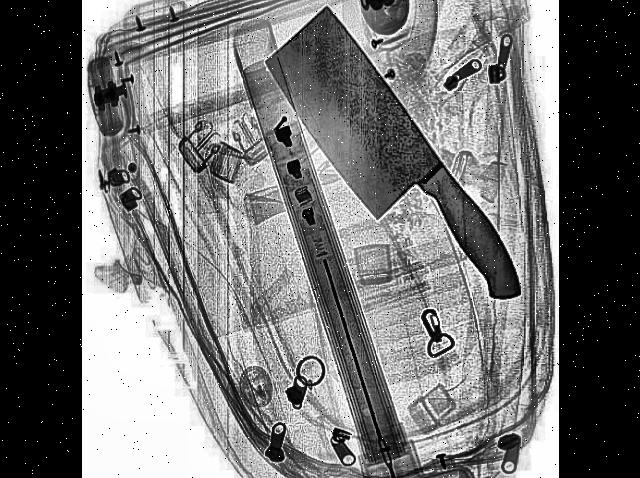Knife: (255, 0, 542, 352)
